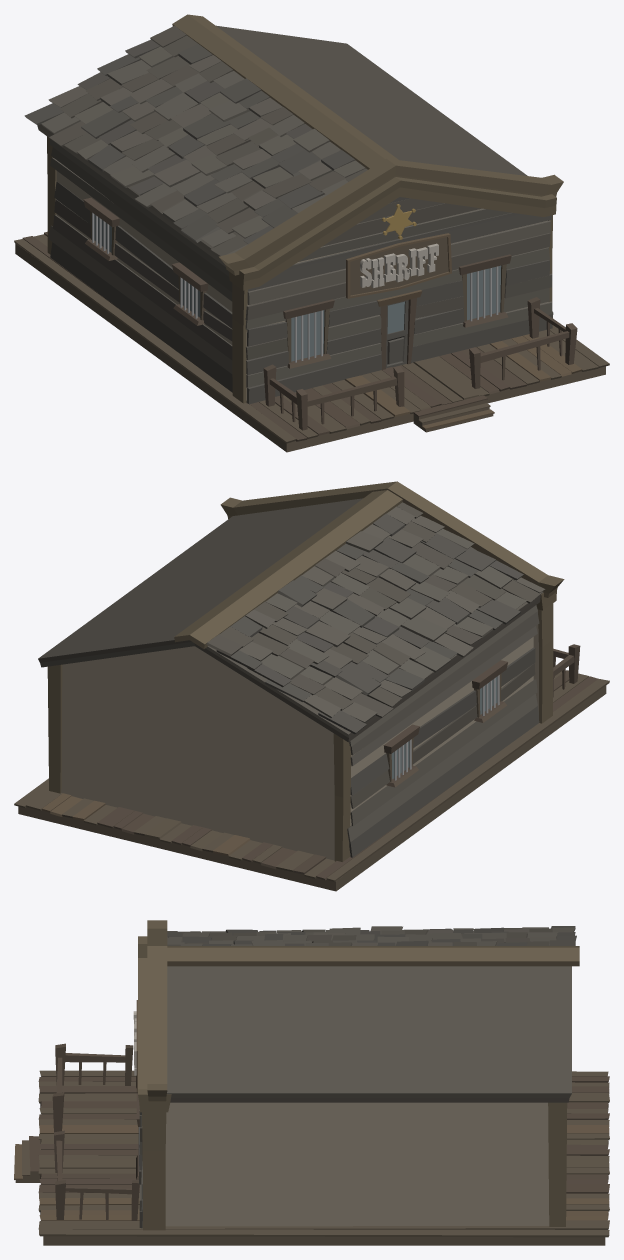
File: export_sceriffo_v01.fbx
3 renders of one model, top to bottom at view 1: azimuth 30°, elevation 25°; view 2: azimuth 150°, elevation 25°; view 3: azimuth 270°, elevation 25°, orthographic. The views are drawn at different scales.
Visible parts, largest first — view 1: MSH_muro_esterno, MSH_portico_esterno, MSH_tetto2, MSH_cornice, MSH_tetto6, MSH_tetto8, MSH_tetto7, MSH_cornice3, MSH_tetto4, MSH_tetto5, MSH_tetto1, MSH_porticciolo (+9 smaller); view 2: MSH_muro_esterno, MSH_tetto2, MSH_portico_esterno, MSH_tetto8, MSH_tetto6, MSH_cornice3, MSH_tetto7, MSH_tetto4, MSH_tetto5, MSH_tetto1, MSH_cornice, MSH_banca_muro_interno (+4 smaller); view 3: MSH_tetto2, MSH_muro_esterno, MSH_portico_esterno, MSH_cornice3, MSH_cornice, MSH_porticciolo, MSH_cornice2, MSH_tetto6, MSH_banca_muro_interno, MSH_tetto8, MSH_tetto1, MSH_tetto4 (+1 smaller).
Part boxes in pixels (x1=…): MSH_muro_esterno: x1=48, y1=139, x2=553, y2=404; MSH_portico_esterno: x1=14, y1=231, x2=609, y2=452; MSH_tetto2: x1=37, y1=25, x2=527, y2=266; MSH_cornice: x1=219, y1=158, x2=563, y2=290; MSH_tetto6: x1=97, y1=54, x2=326, y2=212; MSH_tetto8: x1=48, y1=86, x2=273, y2=244; MSH_tetto7: x1=24, y1=103, x2=247, y2=255; MSH_cornice3: x1=172, y1=14, x2=398, y2=169; MSH_tetto4: x1=125, y1=39, x2=347, y2=194; MSH_tetto5: x1=77, y1=72, x2=297, y2=227; MSH_tetto1: x1=150, y1=25, x2=367, y2=181; MSH_porticciolo: x1=263, y1=297, x2=577, y2=430; MSH_muro_esterno: x1=61, y1=605, x2=539, y2=860; MSH_tetto2: x1=38, y1=498, x2=543, y2=742; MSH_portico_esterno: x1=14, y1=670, x2=609, y2=891; MSH_tetto8: x1=303, y1=560, x2=523, y2=717; MSH_tetto6: x1=247, y1=529, x2=474, y2=687; MSH_cornice3: x1=174, y1=490, x2=402, y2=648; MSH_tetto7: x1=318, y1=577, x2=545, y2=734; MSH_tetto4: x1=216, y1=515, x2=444, y2=670; MSH_tetto5: x1=265, y1=547, x2=496, y2=701; MSH_tetto1: x1=206, y1=502, x2=423, y2=656; MSH_cornice: x1=220, y1=481, x2=564, y2=610; MSH_banca_muro_interno: x1=47, y1=664, x2=351, y2=861; MSH_tetto2: x1=167, y1=945, x2=571, y2=1102; MSH_muro_esterno: x1=139, y1=1102, x2=549, y2=1228; MSH_portico_esterno: x1=14, y1=1070, x2=609, y2=1245; MSH_cornice3: x1=167, y1=946, x2=579, y2=966; MSH_cornice: x1=138, y1=920, x2=171, y2=1112; MSH_porticciolo: x1=52, y1=1043, x2=139, y2=1220; MSH_cornice2: x1=142, y1=1112, x2=166, y2=1230; MSH_tetto6: x1=167, y1=932, x2=575, y2=945; MSH_banca_muro_interno: x1=548, y1=1102, x2=567, y2=1226; MSH_tetto8: x1=167, y1=927, x2=575, y2=937; MSH_tetto1: x1=167, y1=940, x2=575, y2=945; MSH_tetto4: x1=167, y1=935, x2=576, y2=945.
Size of the model in its own units: 184 by 111 by 273.
